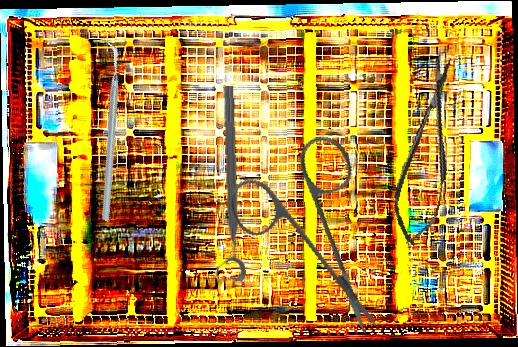Chopper: (33, 39, 183, 223)
Fixation Ring: (207, 86, 246, 282)
Iris Scissors: (204, 116, 423, 336)
Micro Scissor: (384, 52, 473, 250)
